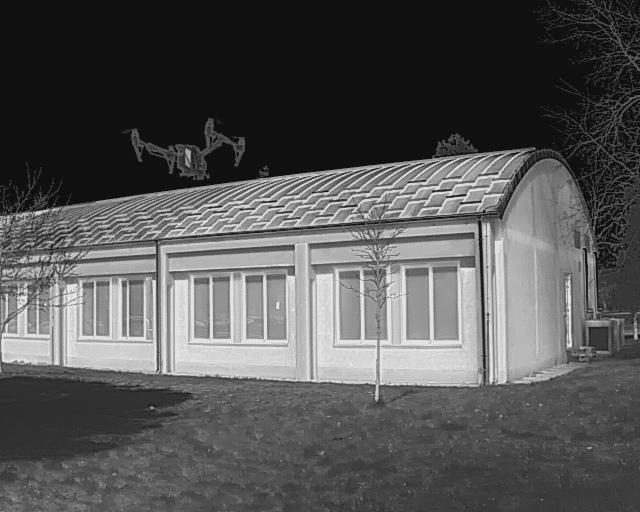drone: (117, 111, 257, 207)
